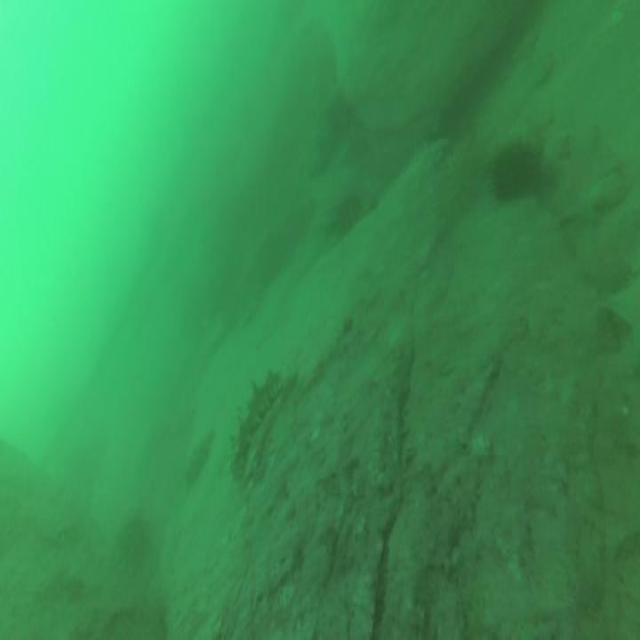echinus: (482, 126, 548, 214)
holothurian: (228, 365, 286, 484), (182, 422, 217, 491)
